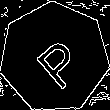P_NW: (24, 26, 85, 88)
